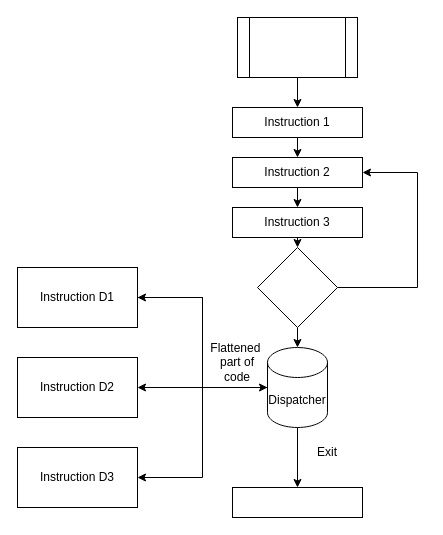
This 443x535 diagram has some shape labels left out. The box of each missing label's shape, as (x1, y1, x2, y2) in pixels:
condition 1: (256, 246, 338, 328)
Entry point: (236, 16, 358, 78)
Instruction 4: (232, 486, 362, 518)
